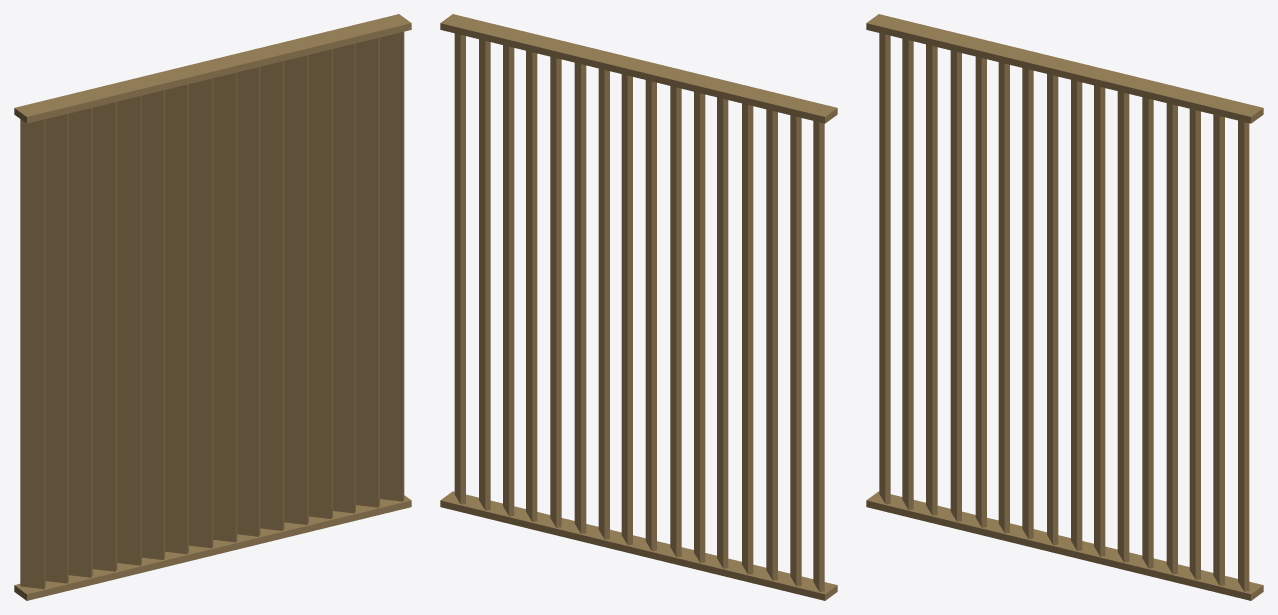
Rendered from wood_wall.fbx.
3 renders of one model, left to right at view 1: azimuth 30°, elevation 25°; view 2: azimuth 150°, elevation 25°; view 3: azimuth 330°, elevation 25°, orthographic.
Parts seen in each view (by area): view 1: pCube16; view 2: pCube16; view 3: pCube16.
Part boxes in pixels (bbox=[...]): pCube16: bbox=[14, 14, 411, 600]; pCube16: bbox=[440, 14, 837, 600]; pCube16: bbox=[866, 14, 1263, 600].
Bounding box in the file's own units: 18.6 × 22.35 × 1.05.
